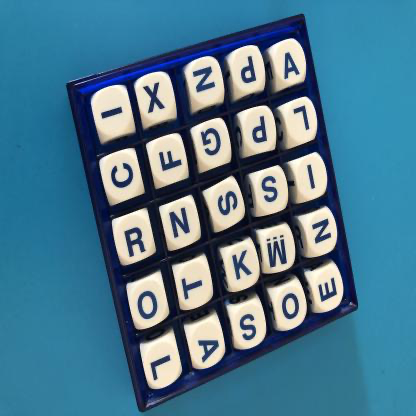a: (190, 323, 226, 369), (276, 42, 307, 85)
c: (102, 152, 141, 200)
e: (315, 269, 344, 311)
f: (151, 137, 187, 185)
g: (197, 122, 230, 167)
i: (95, 89, 133, 137), (298, 158, 328, 200)
k: (227, 245, 259, 290)
l: (145, 343, 181, 388), (287, 101, 317, 143)
m: (263, 229, 295, 272)
n: (190, 59, 225, 105), (165, 201, 200, 247), (308, 212, 338, 255)
o: (131, 282, 169, 327), (275, 287, 308, 329)
p: (232, 48, 265, 92), (244, 110, 277, 153)
r: (115, 214, 154, 262)
s: (211, 183, 245, 229), (234, 305, 267, 349), (256, 170, 288, 214)
t: (178, 262, 213, 308)
x: (138, 75, 176, 122)
